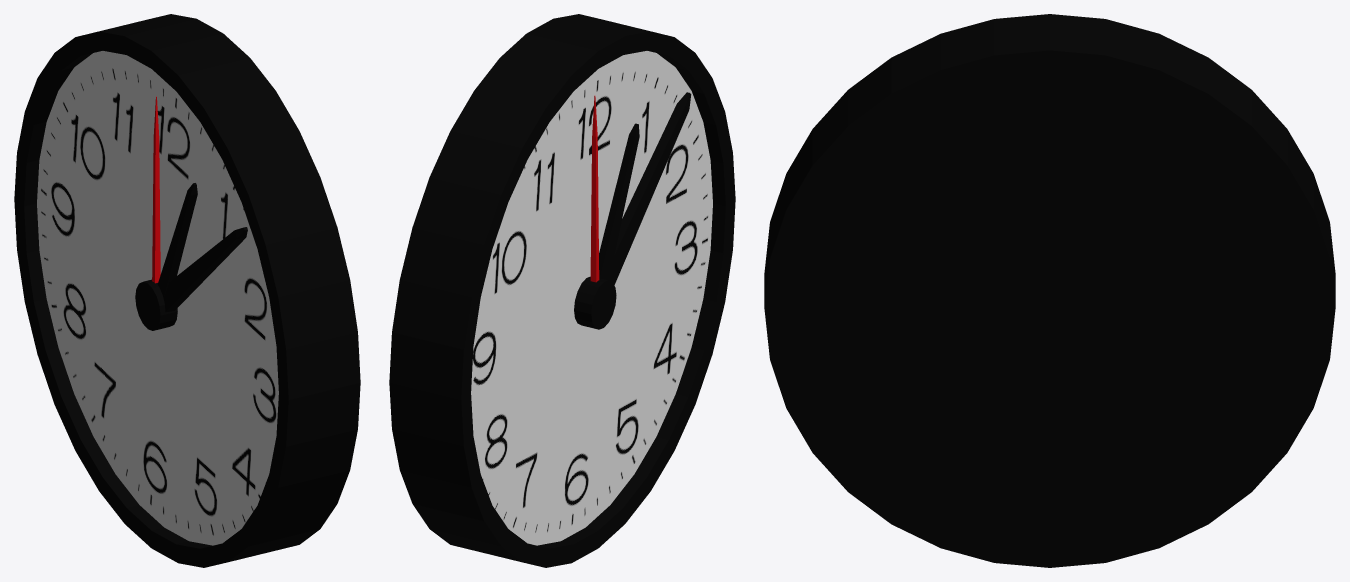
Rendered from Relogio.fbx.
3 views of the same model, side by side, from view 1: azimuth 30°, elevation 25°; view 2: azimuth 150°, elevation 25°; view 3: azimuth 270°, elevation 25° (orthographic). The views are drawn at different scales.
Visible parts, largest first — view 1: Bolinha; view 2: Bolinha; view 3: Bolinha.
Boxes of the visible parts, box(x1,y1,x2,y2) form: Bolinha: box(14, 14, 360, 567); Bolinha: box(389, 14, 735, 567); Bolinha: box(764, 14, 1335, 567).
Size of the model in its own units: 11.12 by 69.13 by 69.13.
